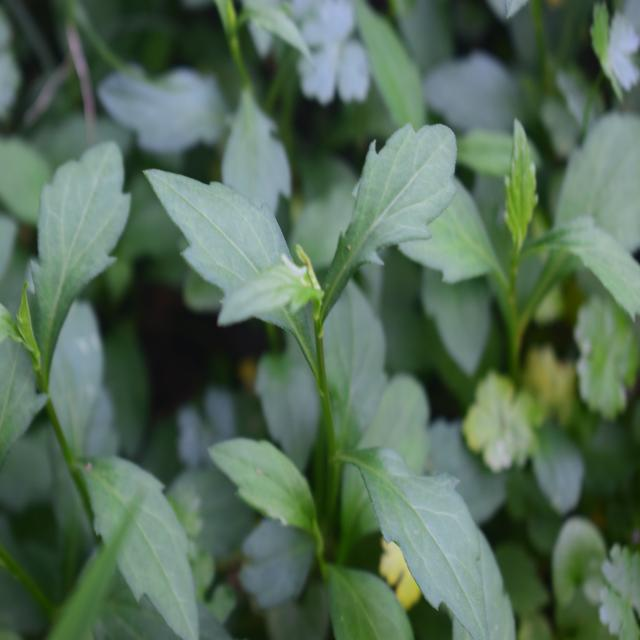Indian aster: (157, 120, 481, 605)
